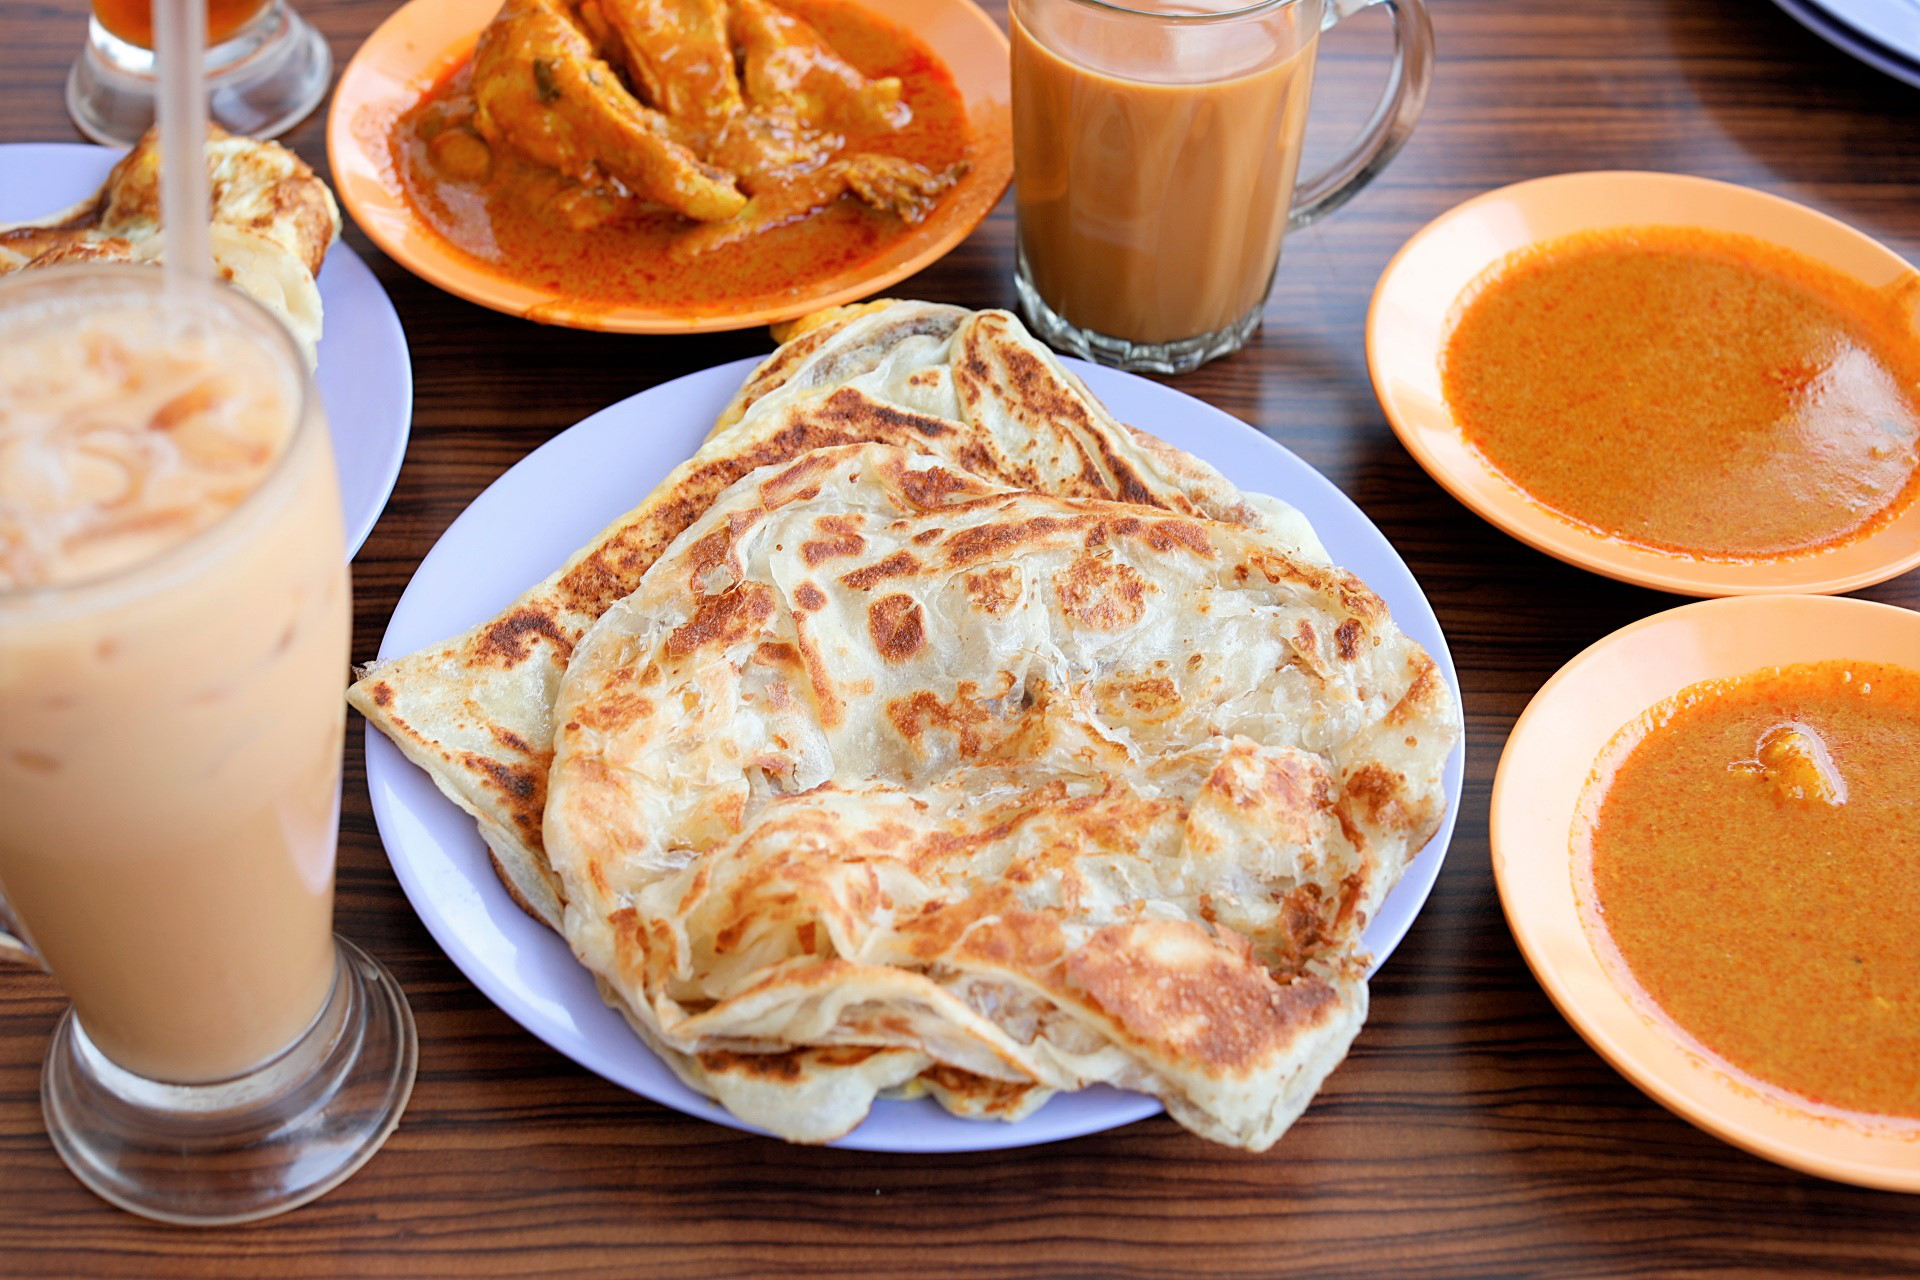Prata: (411, 317, 1331, 1167), (539, 419, 1419, 1137)
